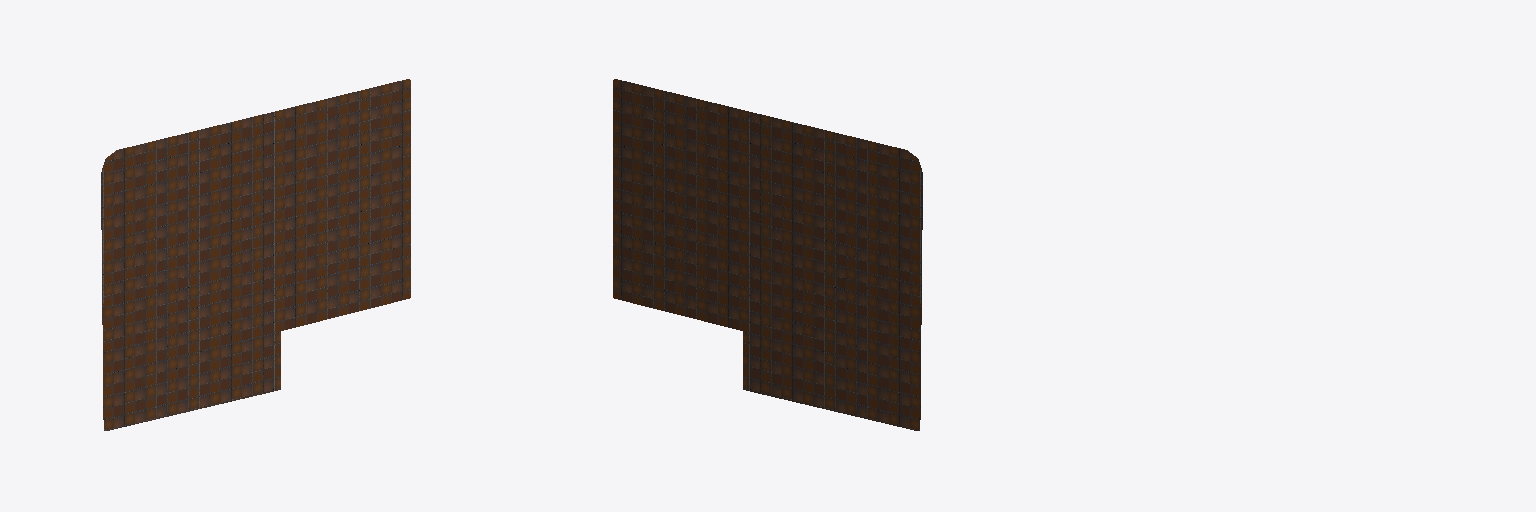
3 views of the same model, side by side, from view 1: azimuth 30°, elevation 25°; view 2: azimuth 150°, elevation 25°; view 3: azimuth 270°, elevation 25° (orthographic).
Parts seen in each view (by area): view 1: floor_2; view 2: floor_2; view 3: none.
Boxes of the visible parts, box(x1,y1,x2,y2) form: floor_2: box(101, 79, 410, 430); floor_2: box(613, 79, 922, 430).
Bounding box in the file's own units: 14.45 × 12.46 × 0.1.
1 materials, 1 textured.